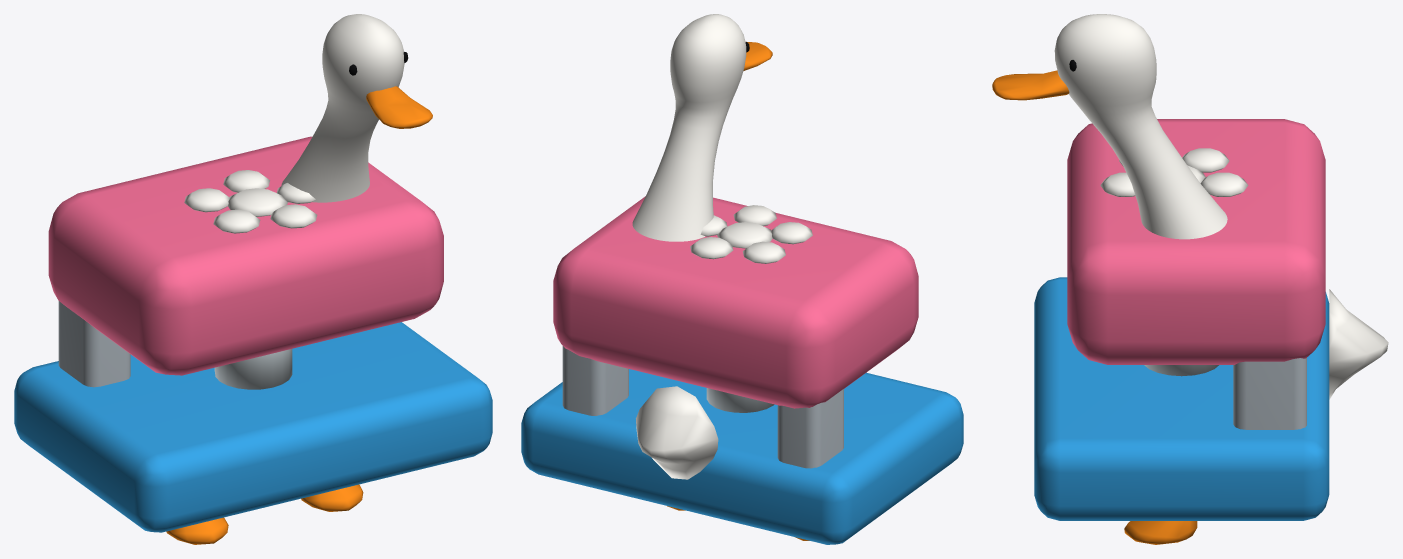
Rendered from duck-craftpunch.glb.
3 renders of one model, left to right at view 1: azimuth 30°, elevation 25°; view 2: azimuth 150°, elevation 25°; view 3: azimuth 270°, elevation 25°, orthographic. The views are drawn at different scales.
Visible parts, largest first — view 1: duck-craftpunch; view 2: duck-craftpunch; view 3: duck-craftpunch.
Part boxes in pixels (x1=…): duck-craftpunch: x1=14, y1=14, x2=492, y2=544; duck-craftpunch: x1=521, y1=14, x2=963, y2=544; duck-craftpunch: x1=992, y1=14, x2=1388, y2=544.
Bounding box in the file's own units: 0.7415 × 1 × 0.6871.
Materials: 1 (1 with a texture image).
